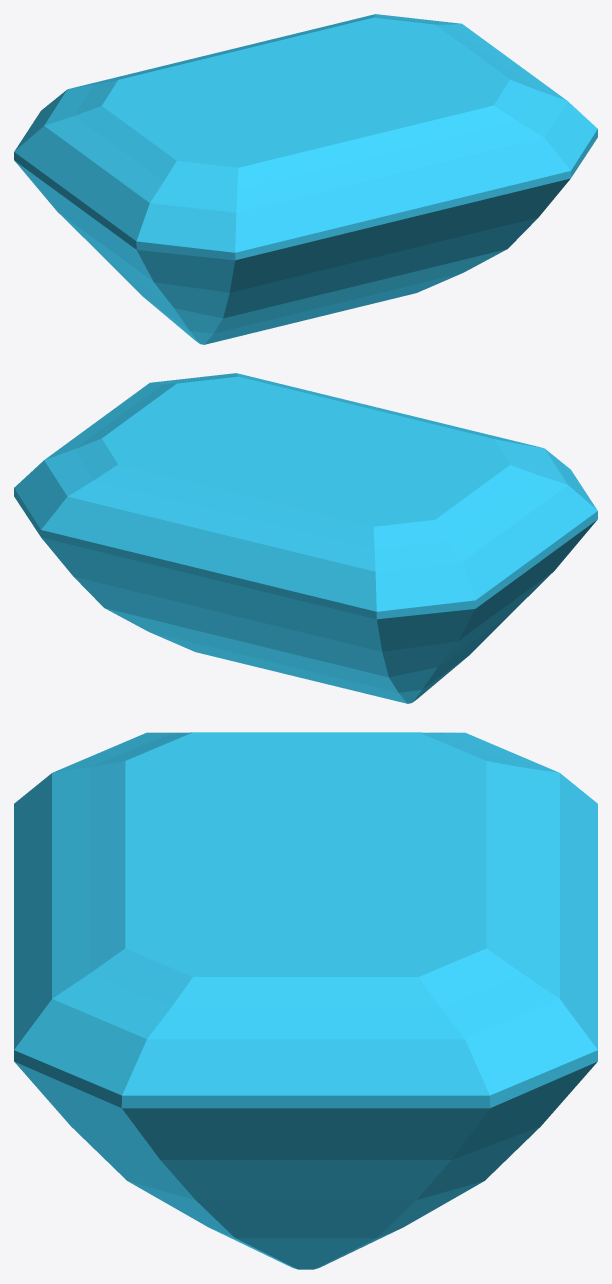
The model's file is emerald.glb.
The picture shows the model from 3 angles, top to bottom: view 1: azimuth 30°, elevation 25°; view 2: azimuth 150°, elevation 25°; view 3: azimuth 270°, elevation 25°; orthographic projection. The views are drawn at different scales.
Visible parts, largest first — view 1: Object_52; view 2: Object_52; view 3: Object_52.
Part boxes in pixels (left/top/right/bottom): Object_52: left=14, top=14, right=597, bottom=344; Object_52: left=14, top=373, right=597, bottom=703; Object_52: left=14, top=732, right=597, bottom=1269.
Bounding box in the file's own units: 2.39 × 1.1 × 1.74.
